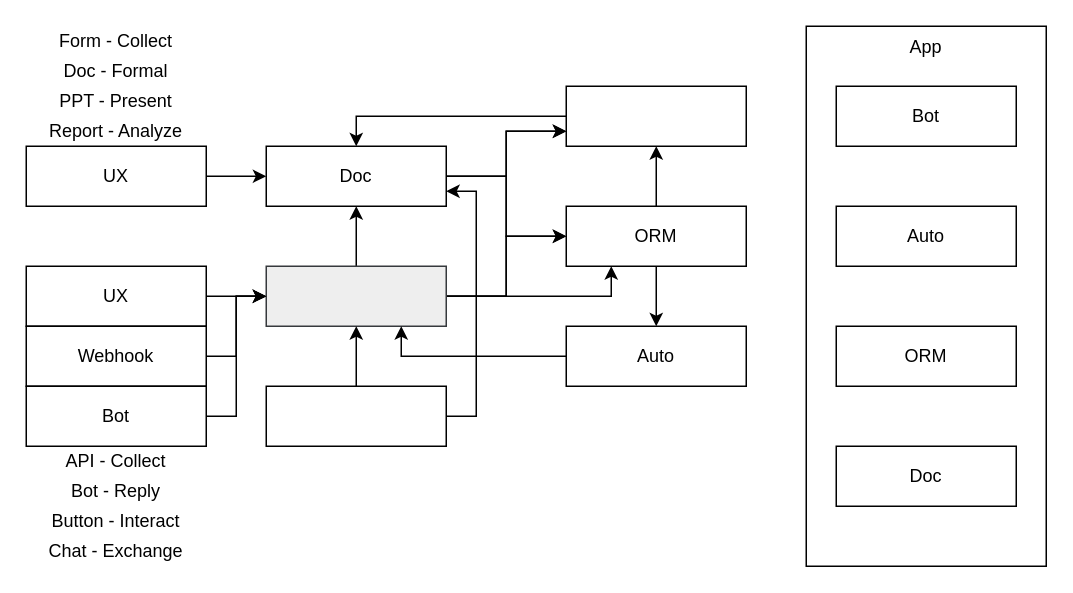
Image size: 1073x593. Some labels were removed from this diagram. The centre of each missing label's shape, as x and y in pixels:
"Channel" goes at point (355, 295).
"Database" goes at point (655, 115).
"File" goes at point (355, 415).
